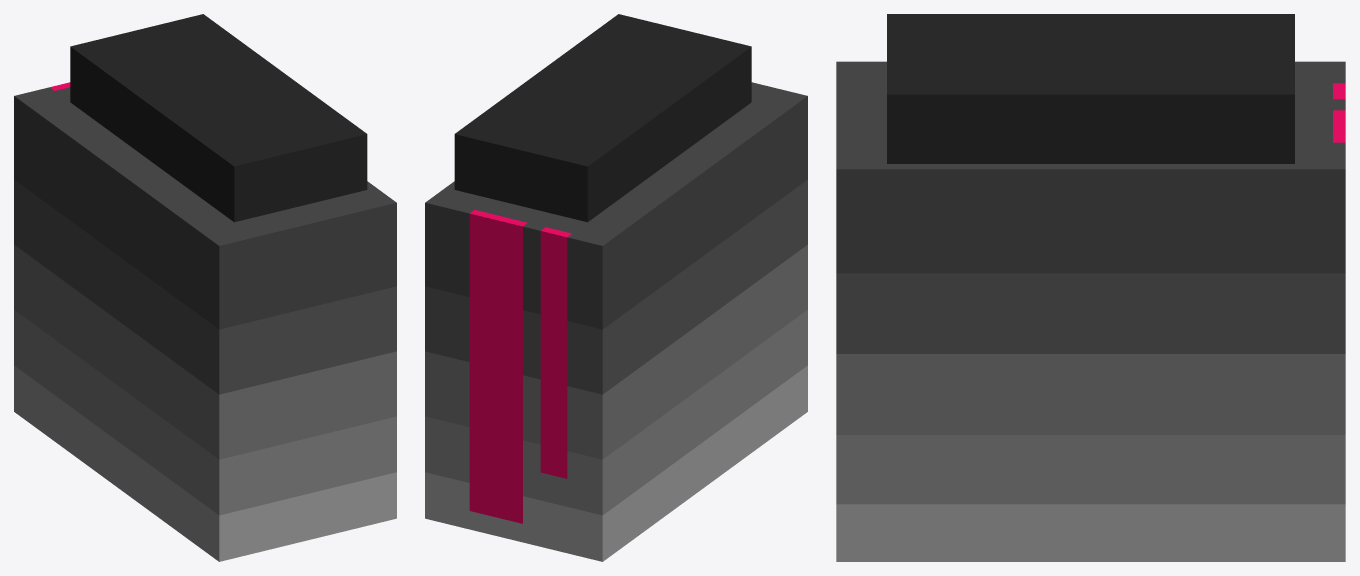
The model's file is PuertaRightDown.FBX.
The picture shows the model from 3 angles, left to right: view 1: azimuth 30°, elevation 25°; view 2: azimuth 150°, elevation 25°; view 3: azimuth 270°, elevation 25°; orthographic projection. The views are drawn at different scales.
Visible parts, largest first — view 1: PuertaRightDown; view 2: PuertaRightDown; view 3: PuertaRightDown.
Boxes of the visible parts, x1=… form: PuertaRightDown: x1=14, y1=14, x2=396, y2=561; PuertaRightDown: x1=425, y1=14, x2=807, y2=561; PuertaRightDown: x1=836, y1=14, x2=1345, y2=561.
Bounding box in the file's own units: 0.5 × 1 × 1.
1 material, 1 textured.
